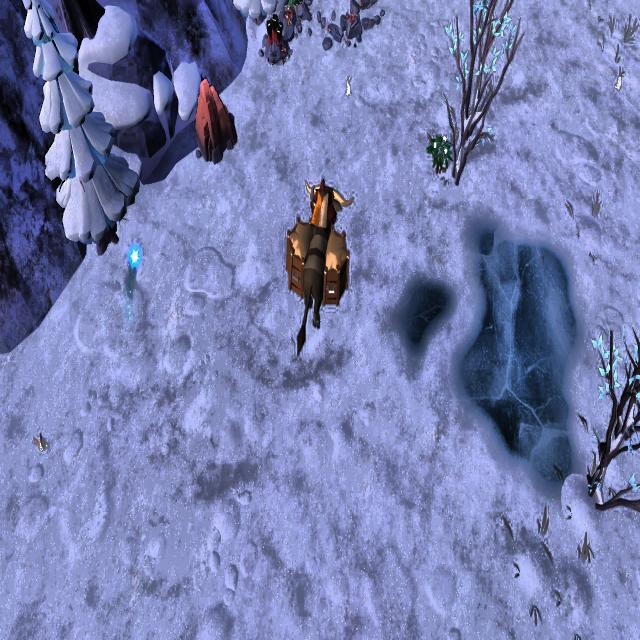fiber_t3: (424, 126, 454, 179)
ore_t5: (265, 13, 283, 52)
rock_t5: (191, 76, 238, 165)
